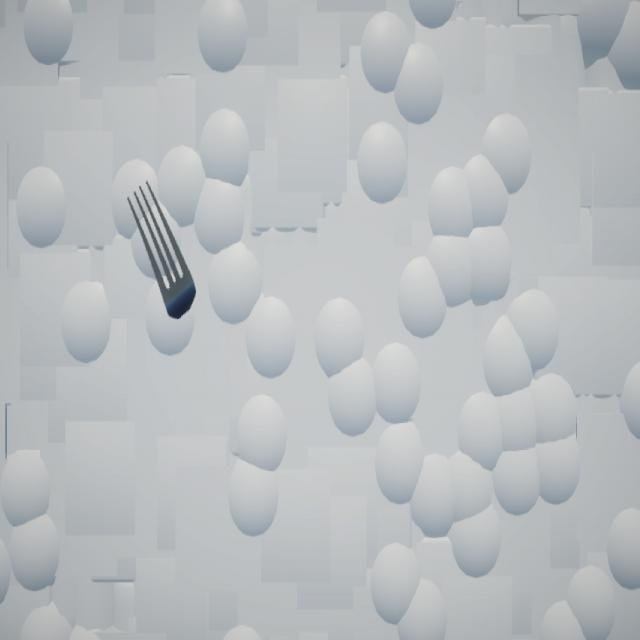top_folk: (128, 181, 197, 321)
